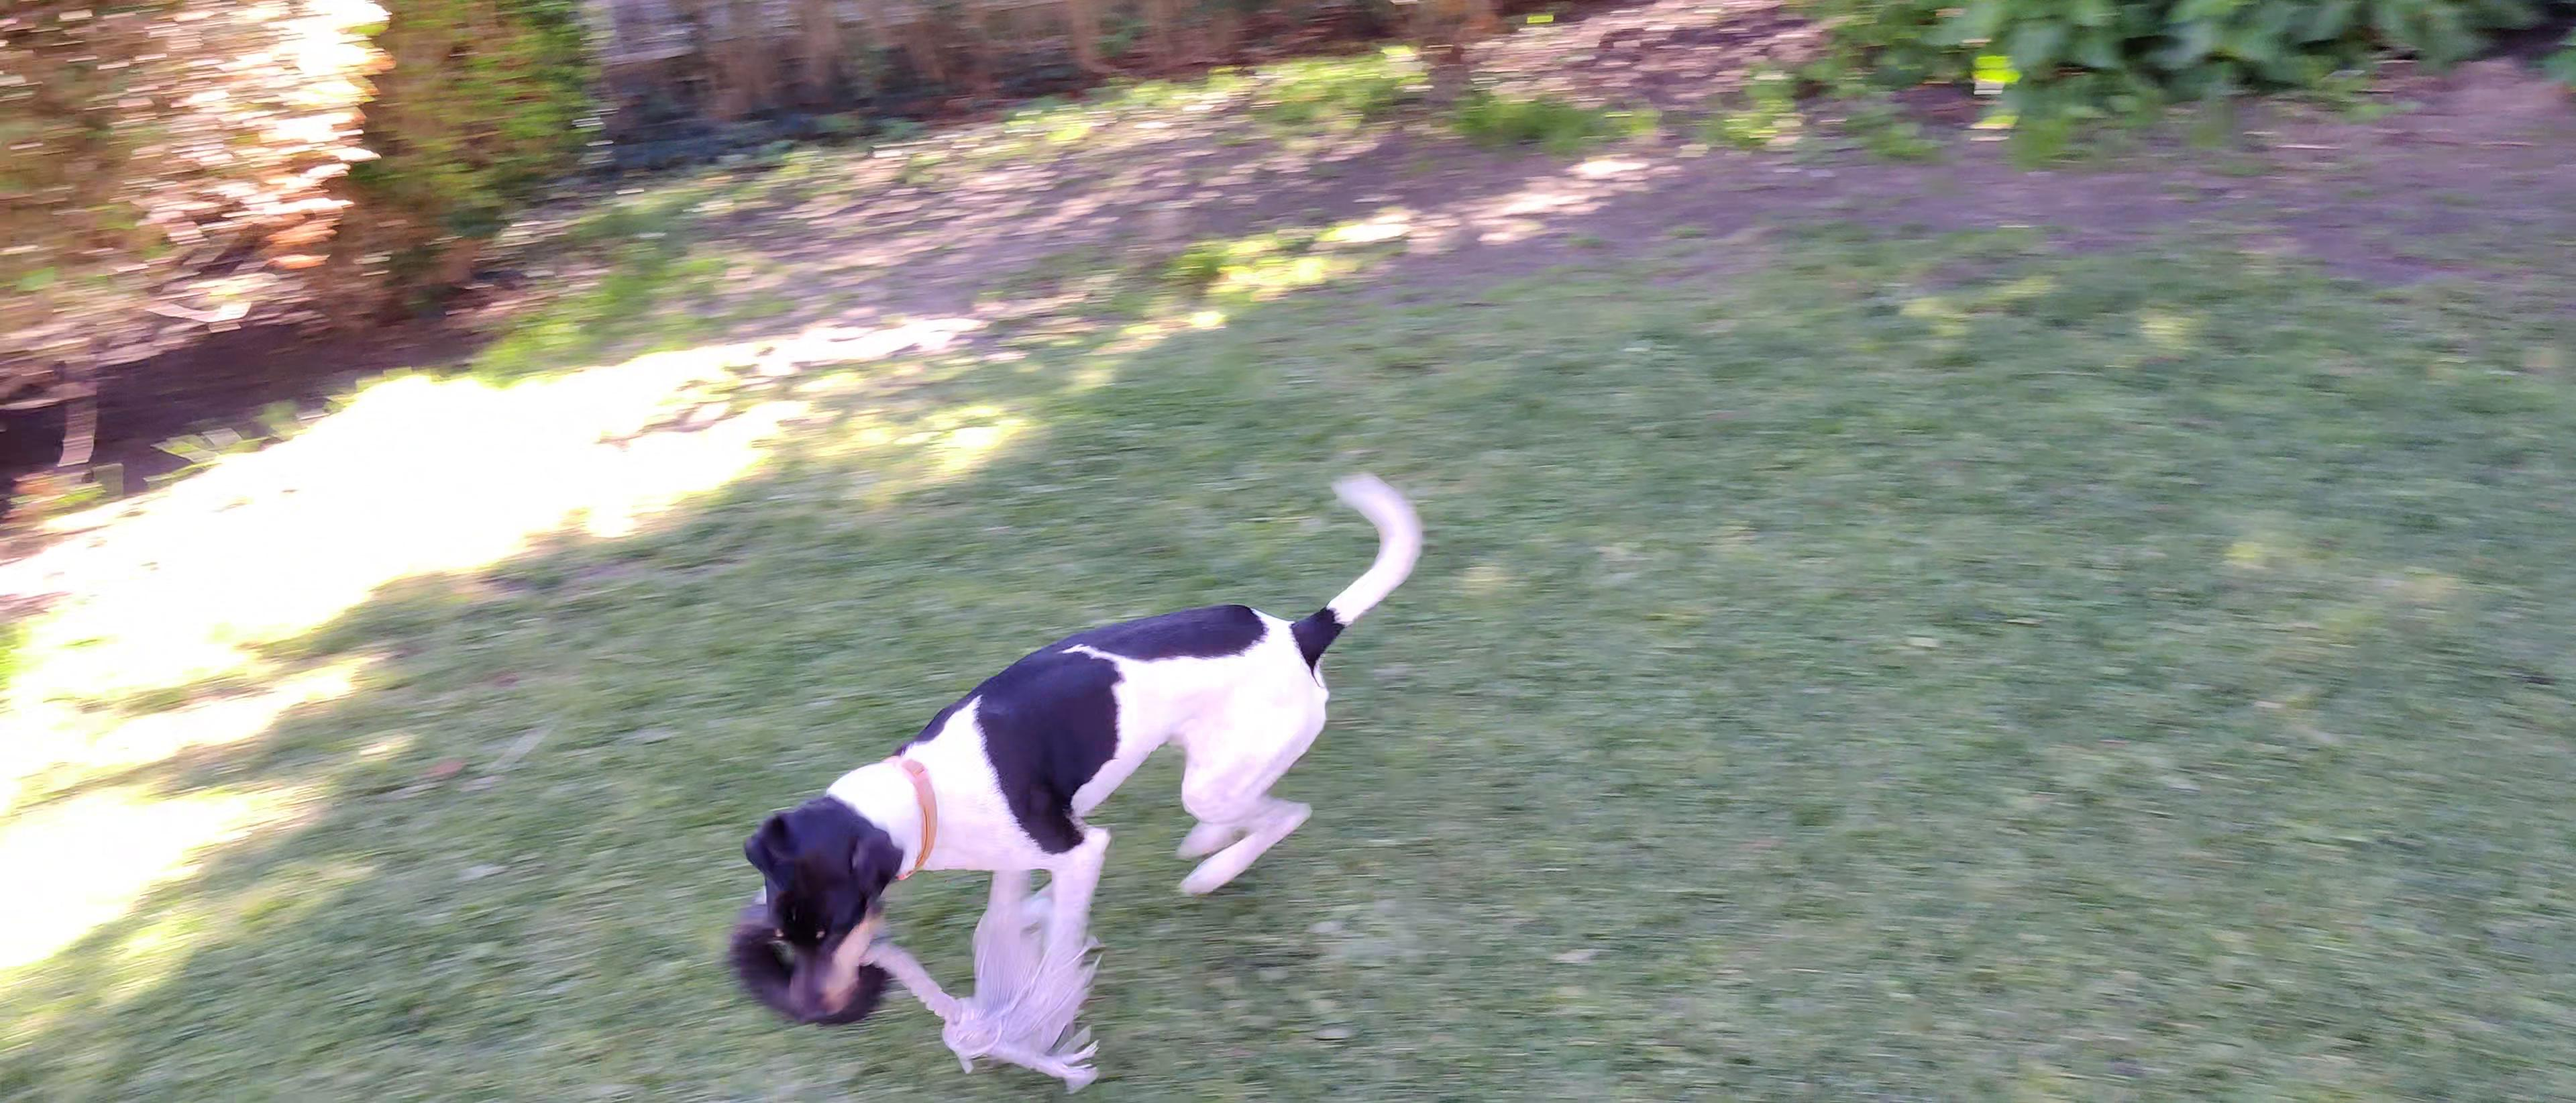Dog: (739, 468, 1424, 1057)
